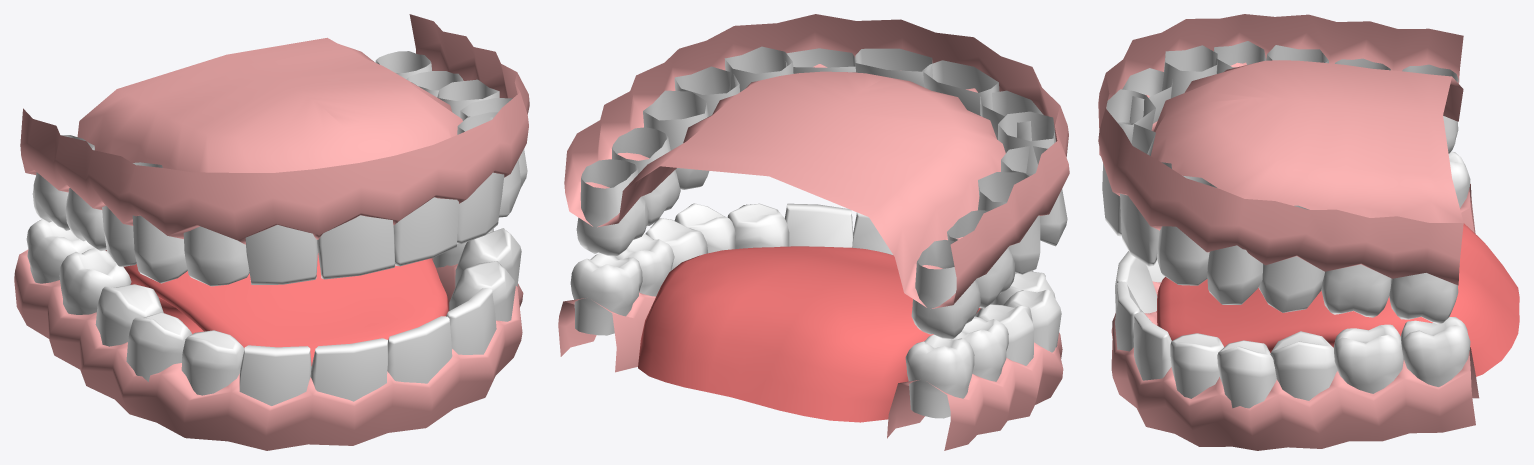
Rendered from teeth_cartoon_edited.glb.
The picture shows the model from 3 angles, left to right: view 1: azimuth 30°, elevation 25°; view 2: azimuth 150°, elevation 25°; view 3: azimuth 270°, elevation 25°; orthographic projection.
Parts seen in each view (by area): view 1: polySurface1, LowerTeeth, UpperTeeth, teeth_OBJ1:Henry_GEO_GRPmouth_GRPHead_GRPlwr_gums, teeth_OBJ1:Henry_GEO_GRPtonguemouth_GRPHead_GRP; view 2: polySurface1, teeth_OBJ1:Henry_GEO_GRPtonguemouth_GRPHead_GRP, UpperTeeth, LowerTeeth, teeth_OBJ1:Henry_GEO_GRPmouth_GRPHead_GRPlwr_gums; view 3: polySurface1, UpperTeeth, LowerTeeth, teeth_OBJ1:Henry_GEO_GRPmouth_GRPHead_GRPlwr_gums, teeth_OBJ1:Henry_GEO_GRPtonguemouth_GRPHead_GRP.
Part boxes in pixels (x1,y1,x2,y2): polySurface1: [20, 14, 529, 244]; LowerTeeth: [26, 219, 521, 405]; UpperTeeth: [32, 51, 527, 286]; teeth_OBJ1:Henry_GEO_GRPmouth_GRPHead_GRPlwr_gums: [14, 249, 523, 450]; teeth_OBJ1:Henry_GEO_GRPtonguemouth_GRPHead_GRP: [105, 250, 448, 365]; polySurface1: [564, 14, 1069, 308]; teeth_OBJ1:Henry_GEO_GRPtonguemouth_GRPHead_GRP: [638, 246, 980, 422]; UpperTeeth: [576, 46, 1067, 339]; LowerTeeth: [570, 203, 1061, 418]; teeth_OBJ1:Henry_GEO_GRPmouth_GRPHead_GRPlwr_gums: [558, 292, 1063, 450]; polySurface1: [1098, 14, 1463, 285]; UpperTeeth: [1102, 41, 1458, 324]; LowerTeeth: [1115, 151, 1470, 408]; teeth_OBJ1:Henry_GEO_GRPmouth_GRPHead_GRPlwr_gums: [1111, 183, 1479, 450]; teeth_OBJ1:Henry_GEO_GRPtonguemouth_GRPHead_GRP: [1156, 223, 1519, 376].
Size of the model in its own units: 0.0992 by 0.0652 by 0.0871.
